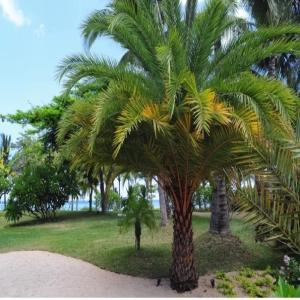palm tree: (52, 0, 300, 291)
